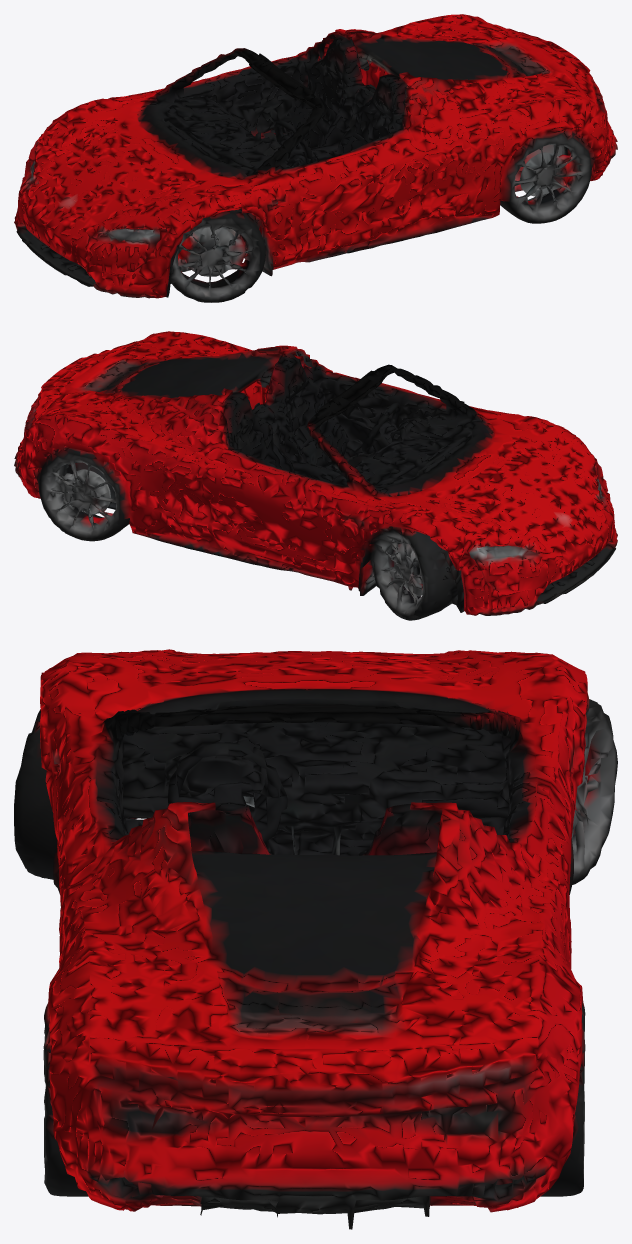
The model's file is flying-car.glb.
3 views of the same model, one above another, from view 1: azimuth 30°, elevation 25°; view 2: azimuth 150°, elevation 25°; view 3: azimuth 270°, elevation 25° (orthographic). The views are drawn at different scales.
Size of the model in its own units: 0.445 by 0.1199 by 0.2239.
